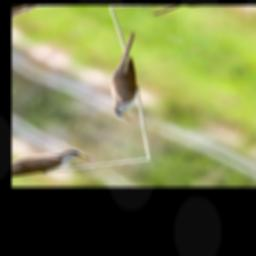Cuckoo: (64, 29, 199, 124)
